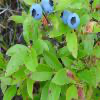Blueberry leaf: (5, 42, 38, 80), (24, 62, 55, 82), (41, 48, 64, 71), (75, 64, 96, 87), (48, 20, 71, 41), (52, 67, 77, 86), (81, 27, 95, 60), (22, 16, 33, 48), (24, 78, 39, 100), (3, 84, 23, 99), (47, 13, 62, 32), (48, 78, 60, 99), (67, 0, 89, 10), (7, 15, 25, 25), (32, 23, 40, 45)
